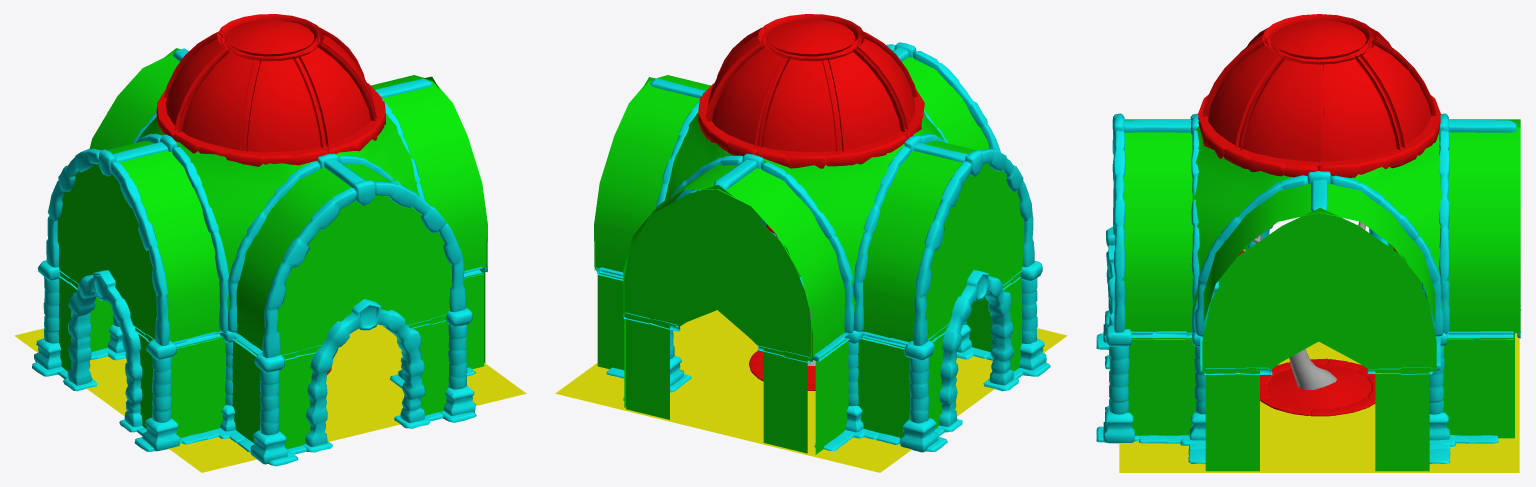
File: Hallway_CrossSection_1.fbx
3 renders of one model, left to right at view 1: azimuth 30°, elevation 25°; view 2: azimuth 150°, elevation 25°; view 3: azimuth 270°, elevation 25°, orthographic. The views are drawn at different scales.
Visible parts, largest first — view 1: Room_Cross:CrossRoomFinishedRoomsWalls, Room_Cross:FrameCrossRoomFinishedRooms, polySurface334, Room_Cross:CrossRoomFinishedRoomsFloor; view 2: Room_Cross:CrossRoomFinishedRoomsWalls, Room_Cross:FrameCrossRoomFinishedRooms, polySurface334, Room_Cross:CrossRoomFinishedRoomsFloor; view 3: Room_Cross:CrossRoomFinishedRoomsWalls, polySurface334, Room_Cross:FrameCrossRoomFinishedRooms, Room_Cross:CrossRoomFinishedRoomsFloor, Room_Cross:Tree1.
Part boxes in pixels (x1,y1,x2,y2): Room_Cross:CrossRoomFinishedRoomsWalls: (57, 48, 487, 449); Room_Cross:FrameCrossRoomFinishedRooms: (32, 48, 487, 466); polySurface334: (156, 14, 385, 374); Room_Cross:CrossRoomFinishedRoomsFloor: (14, 324, 526, 472); Room_Cross:CrossRoomFinishedRoomsWalls: (594, 57, 1024, 454); Room_Cross:FrameCrossRoomFinishedRooms: (596, 42, 1050, 452); polySurface334: (698, 14, 924, 390); Room_Cross:CrossRoomFinishedRoomsFloor: (555, 287, 1067, 472); Room_Cross:CrossRoomFinishedRoomsWalls: (1123, 119, 1520, 471); polySurface334: (1198, 14, 1440, 416); Room_Cross:FrameCrossRoomFinishedRooms: (1096, 113, 1521, 463); Room_Cross:CrossRoomFinishedRoomsFloor: (1119, 333, 1519, 472); Room_Cross:Tree1: (1243, 221, 1365, 390).
Size of the model in its own units: 1275 by 1190 by 1274.
